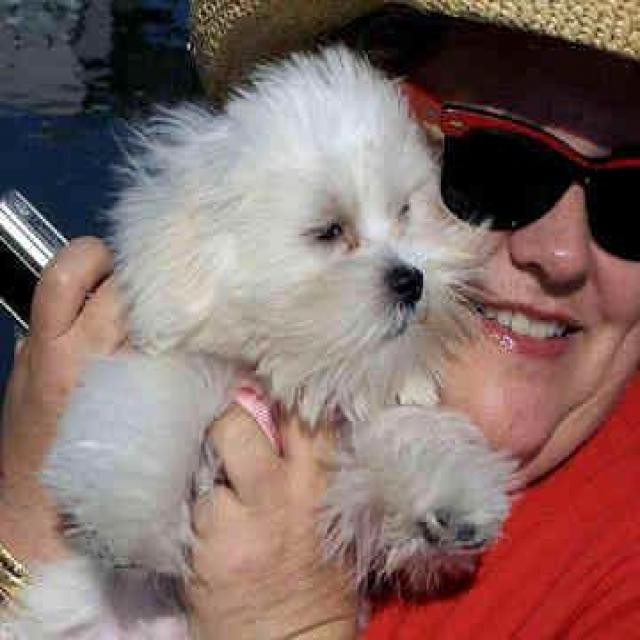maltese_dog: (59, 46, 521, 638)
